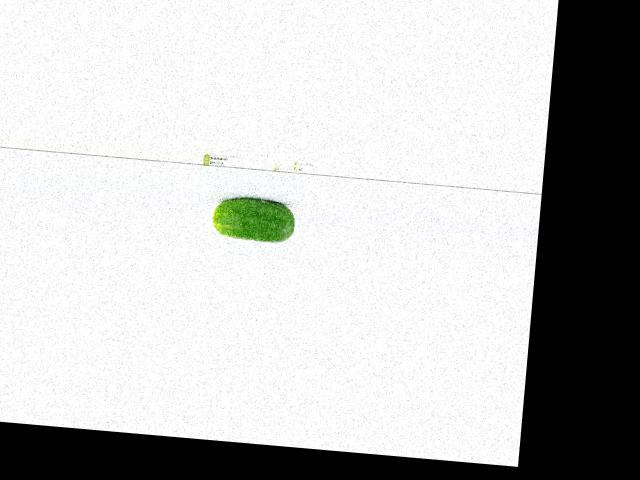cucumber: (211, 195, 297, 243)
